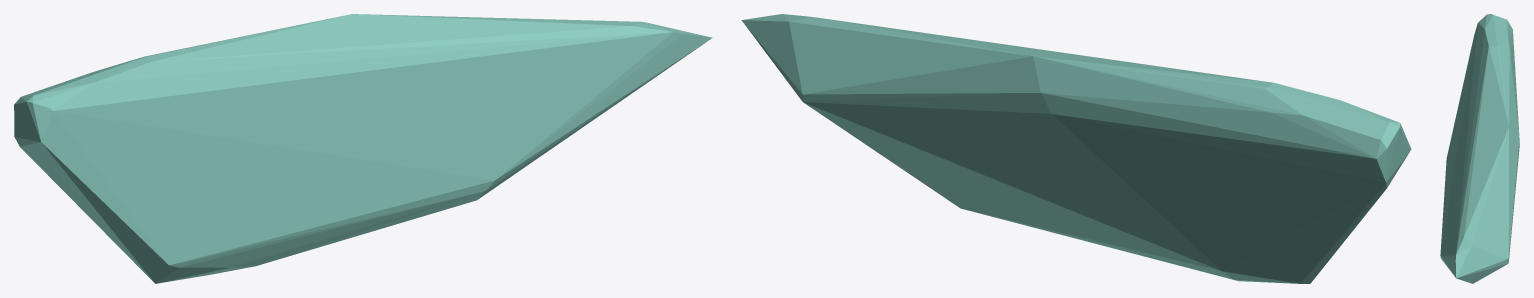
Rendered from handTool_pliers_combination_a01.glb.
The picture shows the model from 3 angles, left to right: view 1: azimuth 30°, elevation 25°; view 2: azimuth 150°, elevation 25°; view 3: azimuth 270°, elevation 25°; orthographic projection. The views are drawn at different scales.
Parts seen in each view (by area): view 1: geometry_0; view 2: geometry_0; view 3: geometry_0.
Boxes of the visible parts, x1=… form: geometry_0: x1=14, y1=14, x2=712, y2=283; geometry_0: x1=741, y1=14, x2=1411, y2=283; geometry_0: x1=1440, y1=14, x2=1519, y2=283.
Bounding box in the file's own units: 0.4749 × 0.1472 × 0.0746.
